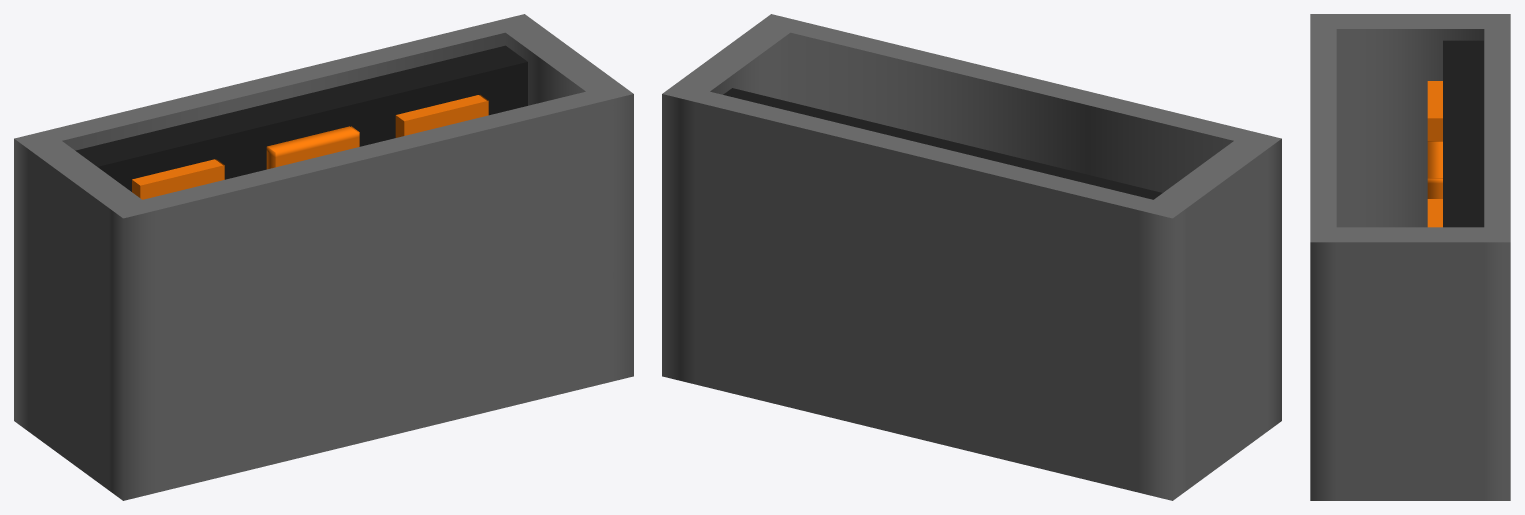
Rendered from Slot.FBX.
3 renders of one model, left to right at view 1: azimuth 30°, elevation 25°; view 2: azimuth 150°, elevation 25°; view 3: azimuth 270°, elevation 25°, orthographic. The views are drawn at different scales.
Visible parts, largest first — view 1: Head; view 2: Head; view 3: Head.
Boxes of the visible parts, x1,y1,x2,y2 form: Head: (14, 14, 633, 500); Head: (662, 14, 1281, 500); Head: (1310, 14, 1510, 500).
Size of the model in its own units: 16.84 by 8.93 by 6.24.
